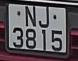1: (39, 29, 50, 52)
3: (11, 25, 25, 50)
5: (50, 28, 64, 54)
8: (25, 28, 38, 50)
J: (37, 5, 52, 30)
N: (23, 6, 38, 29)
